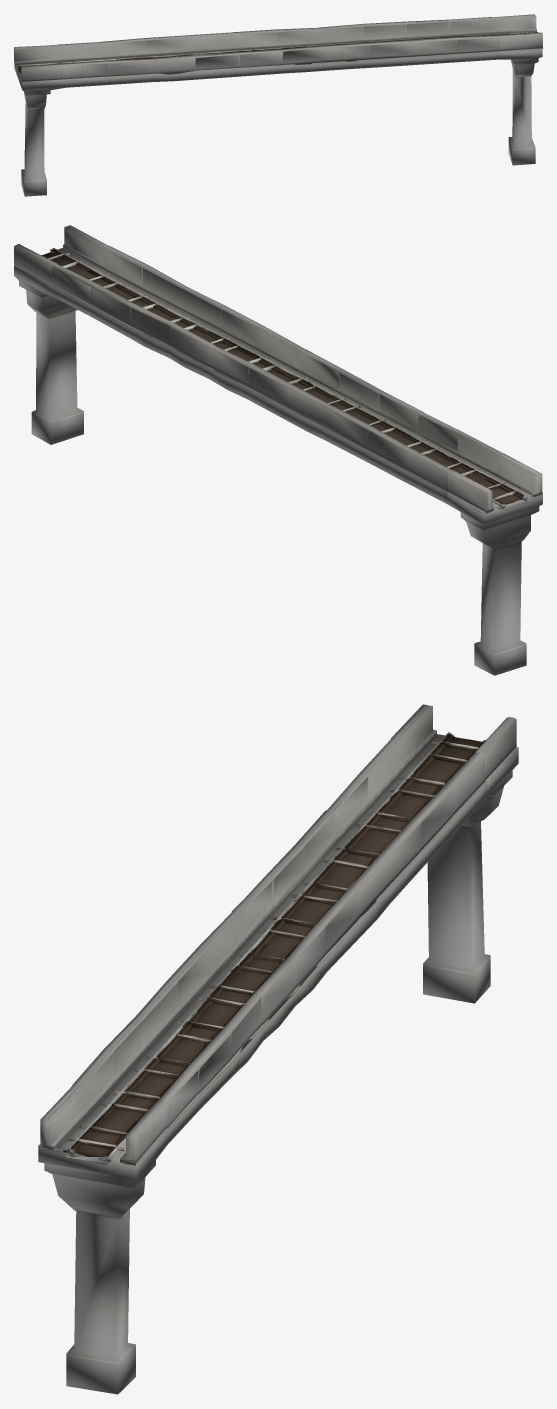
File: railway+track+3d+model.glb
3 views of the same model, one above another, from view 1: azimuth 30°, elevation 25°; view 2: azimuth 150°, elevation 25°; view 3: azimuth 270°, elevation 25° (orthographic). The views are drawn at different scales.
Parts seen in each view (by area): view 1: tripo_node_28f5fde2-c2c8-4e7d-851a-d1f6226c8e78; view 2: tripo_node_28f5fde2-c2c8-4e7d-851a-d1f6226c8e78; view 3: tripo_node_28f5fde2-c2c8-4e7d-851a-d1f6226c8e78.
Part boxes in pixels (x1,y1,x2,y2): tripo_node_28f5fde2-c2c8-4e7d-851a-d1f6226c8e78: [14, 14, 542, 196]; tripo_node_28f5fde2-c2c8-4e7d-851a-d1f6226c8e78: [14, 225, 542, 675]; tripo_node_28f5fde2-c2c8-4e7d-851a-d1f6226c8e78: [38, 704, 518, 1394].
Size of the model in its own units: 0.998 by 0.291 by 0.4707.
1 material, 1 textured.
